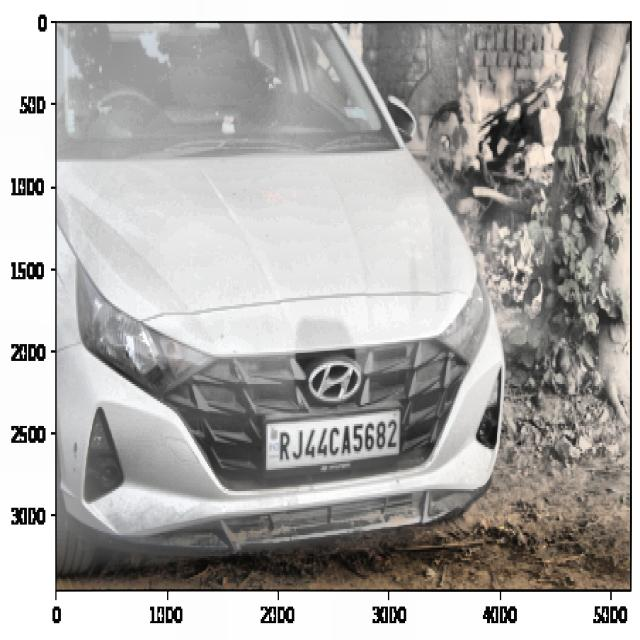license_plate: (271, 410, 398, 466)
